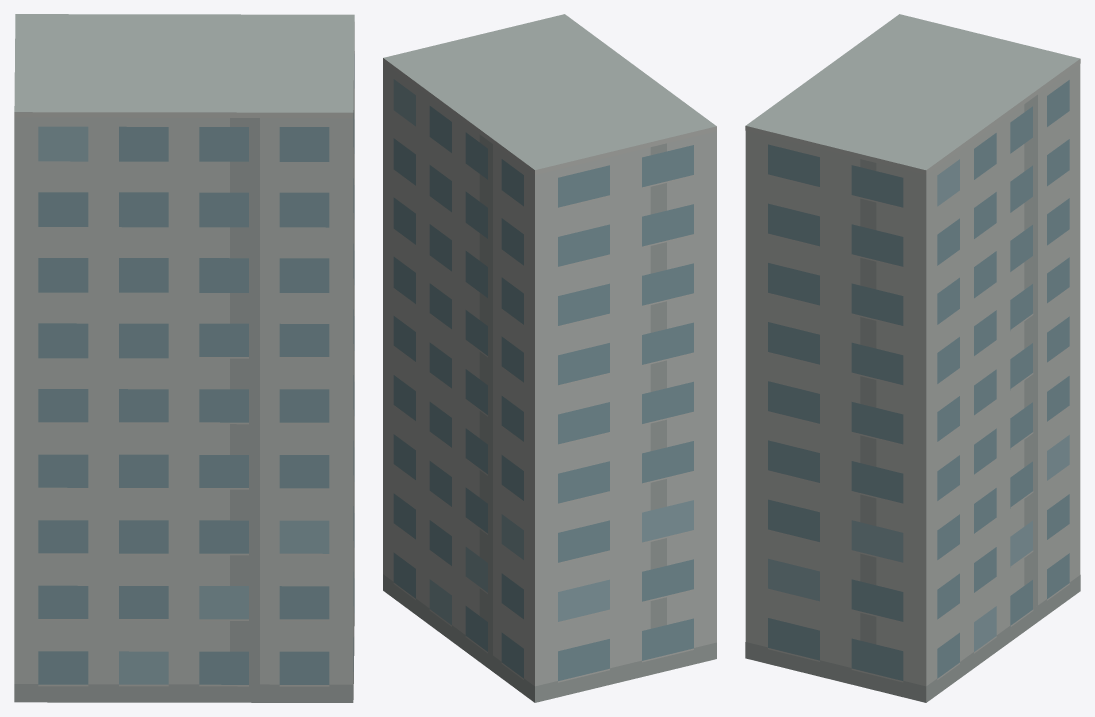
Rendered from residential-937e6e26-8058-494f-905c-6a8a948197e7.glb.
3 views of the same model, side by side, from view 1: azimuth 30°, elevation 25°; view 2: azimuth 150°, elevation 25°; view 3: azimuth 270°, elevation 25° (orthographic). The views are drawn at different scales.
Parts seen in each view (by area): view 1: residential-937e6e26-8058-494f-905c-6a8a948197e7.tmp; view 2: residential-937e6e26-8058-494f-905c-6a8a948197e7.tmp; view 3: residential-937e6e26-8058-494f-905c-6a8a948197e7.tmp.
Boxes of the visible parts, bbox=[...] form: residential-937e6e26-8058-494f-905c-6a8a948197e7.tmp: bbox=[14, 14, 354, 702]; residential-937e6e26-8058-494f-905c-6a8a948197e7.tmp: bbox=[383, 14, 716, 702]; residential-937e6e26-8058-494f-905c-6a8a948197e7.tmp: bbox=[745, 14, 1080, 702].
Size of the model in its own units: 16.37 by 26 by 14.83.
